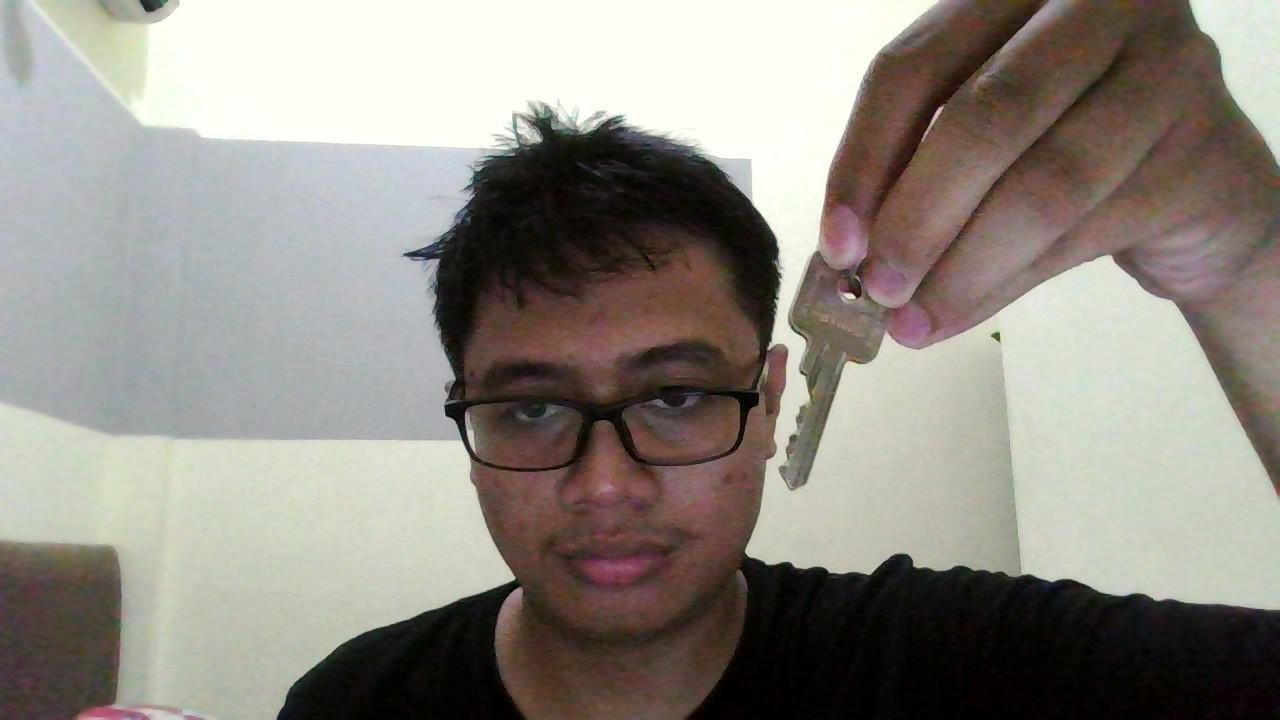keys: (771, 233, 896, 504)
